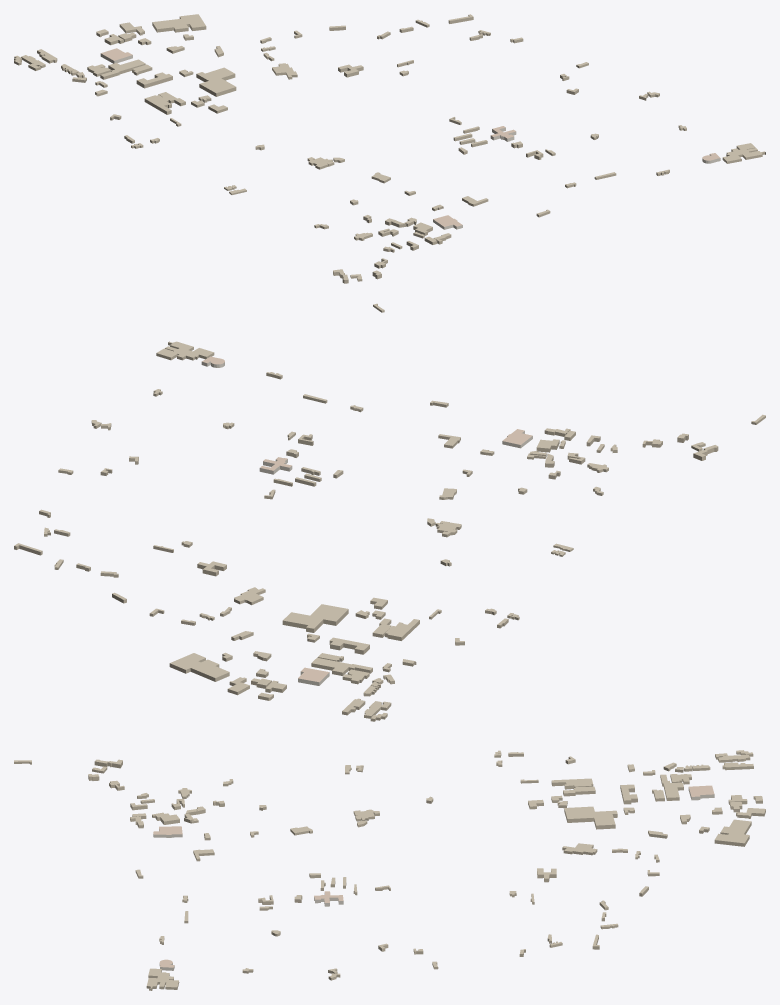
3 renders of one model, top to bottom at view 1: azimuth 30°, elevation 25°; view 2: azimuth 150°, elevation 25°; view 3: azimuth 270°, elevation 25°, orthographic. The views are drawn at different scales.
Size of the model in its own units: 1497 by 13.8 by 1983.
